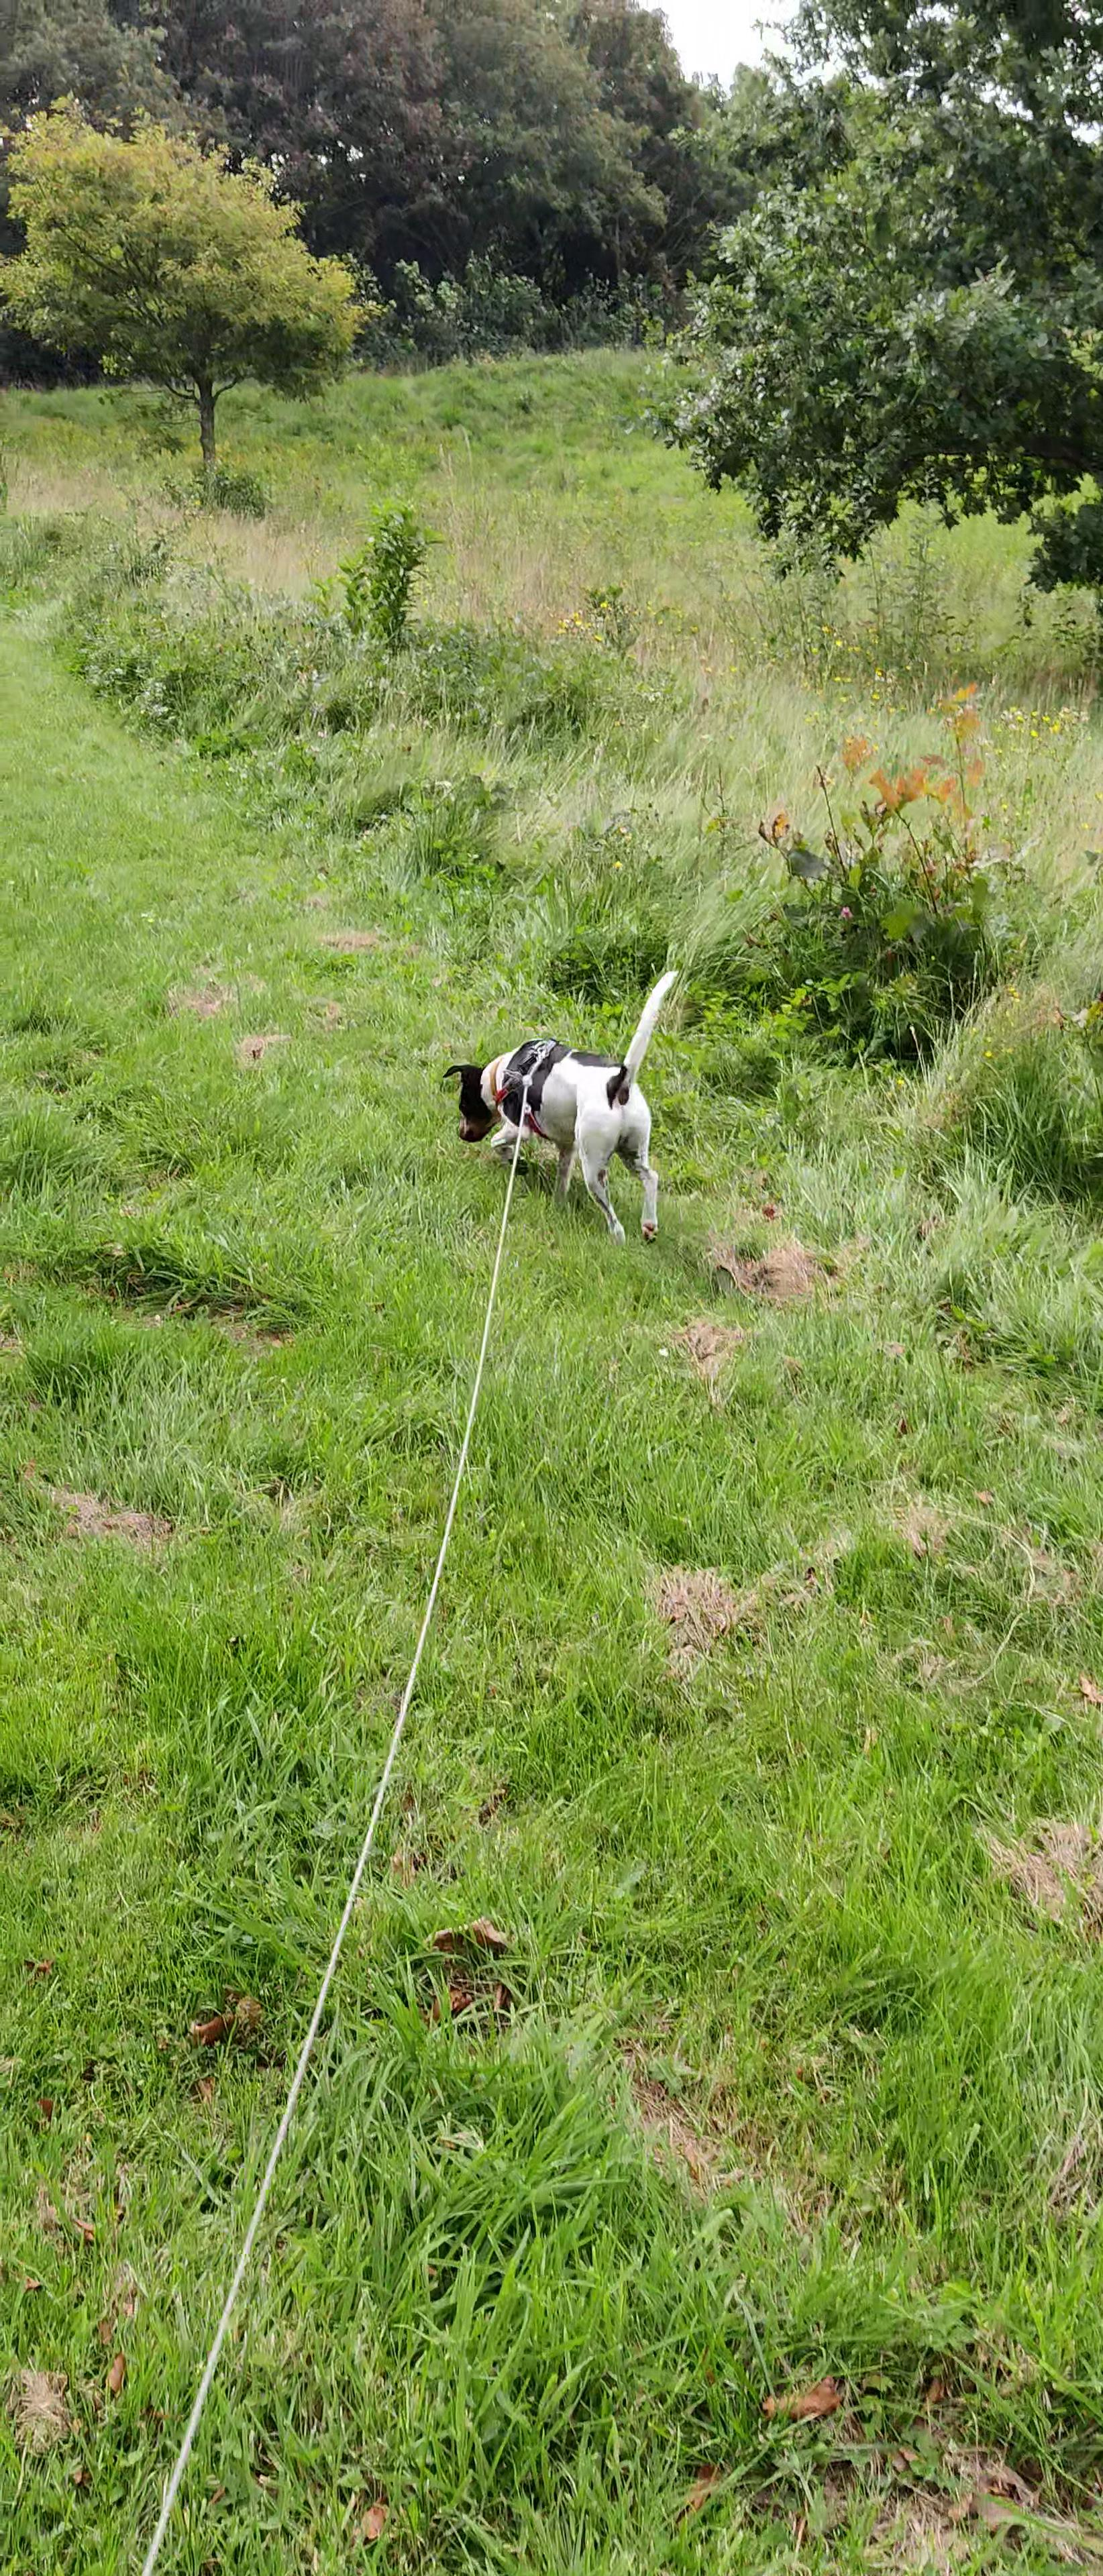Dog: (426, 935, 689, 1262)
